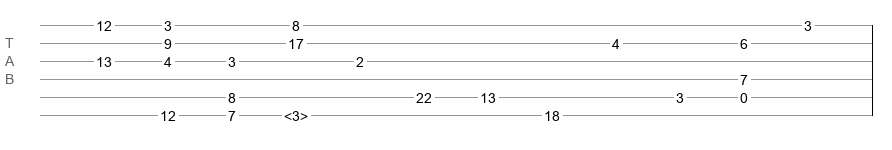0: (740, 90, 748, 100)
12: (96, 18, 112, 28), (160, 108, 176, 118)
13: (96, 54, 112, 64), (480, 90, 496, 100)
17: (288, 36, 304, 46)
18: (544, 108, 560, 118)
2: (356, 54, 364, 64)
22: (416, 90, 432, 100)
3: (164, 18, 172, 28), (228, 54, 236, 64), (676, 90, 684, 100), (804, 18, 812, 28)
4: (164, 54, 172, 64), (612, 36, 620, 46)
6: (740, 36, 748, 46)
7: (228, 108, 236, 118), (740, 72, 748, 82)
8: (228, 90, 236, 100), (292, 18, 300, 28)
9: (164, 36, 172, 46)
harmonic: (284, 108, 308, 118)
